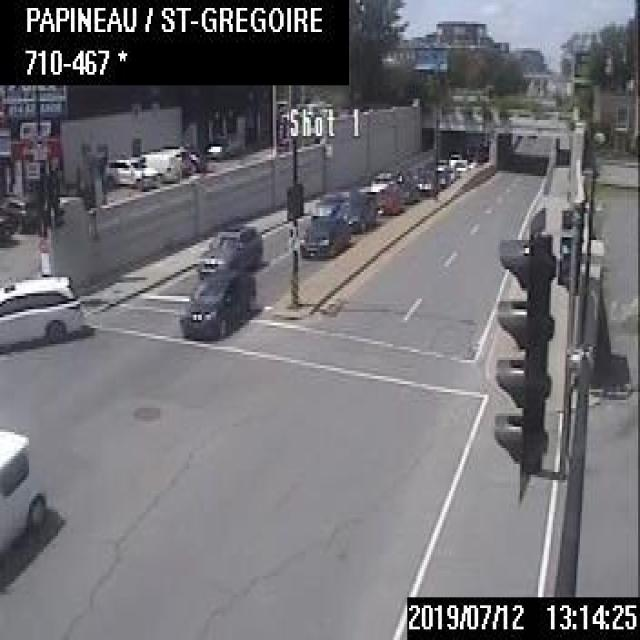vehicle: (0, 272, 85, 352), (0, 423, 45, 557), (180, 268, 260, 338), (196, 219, 262, 272), (300, 203, 350, 259), (334, 192, 376, 230), (102, 154, 155, 184), (0, 196, 38, 228), (143, 150, 181, 180), (376, 180, 402, 210), (310, 189, 338, 215), (0, 205, 15, 240), (370, 170, 394, 191), (416, 168, 435, 192), (453, 157, 467, 176), (448, 152, 460, 171)
